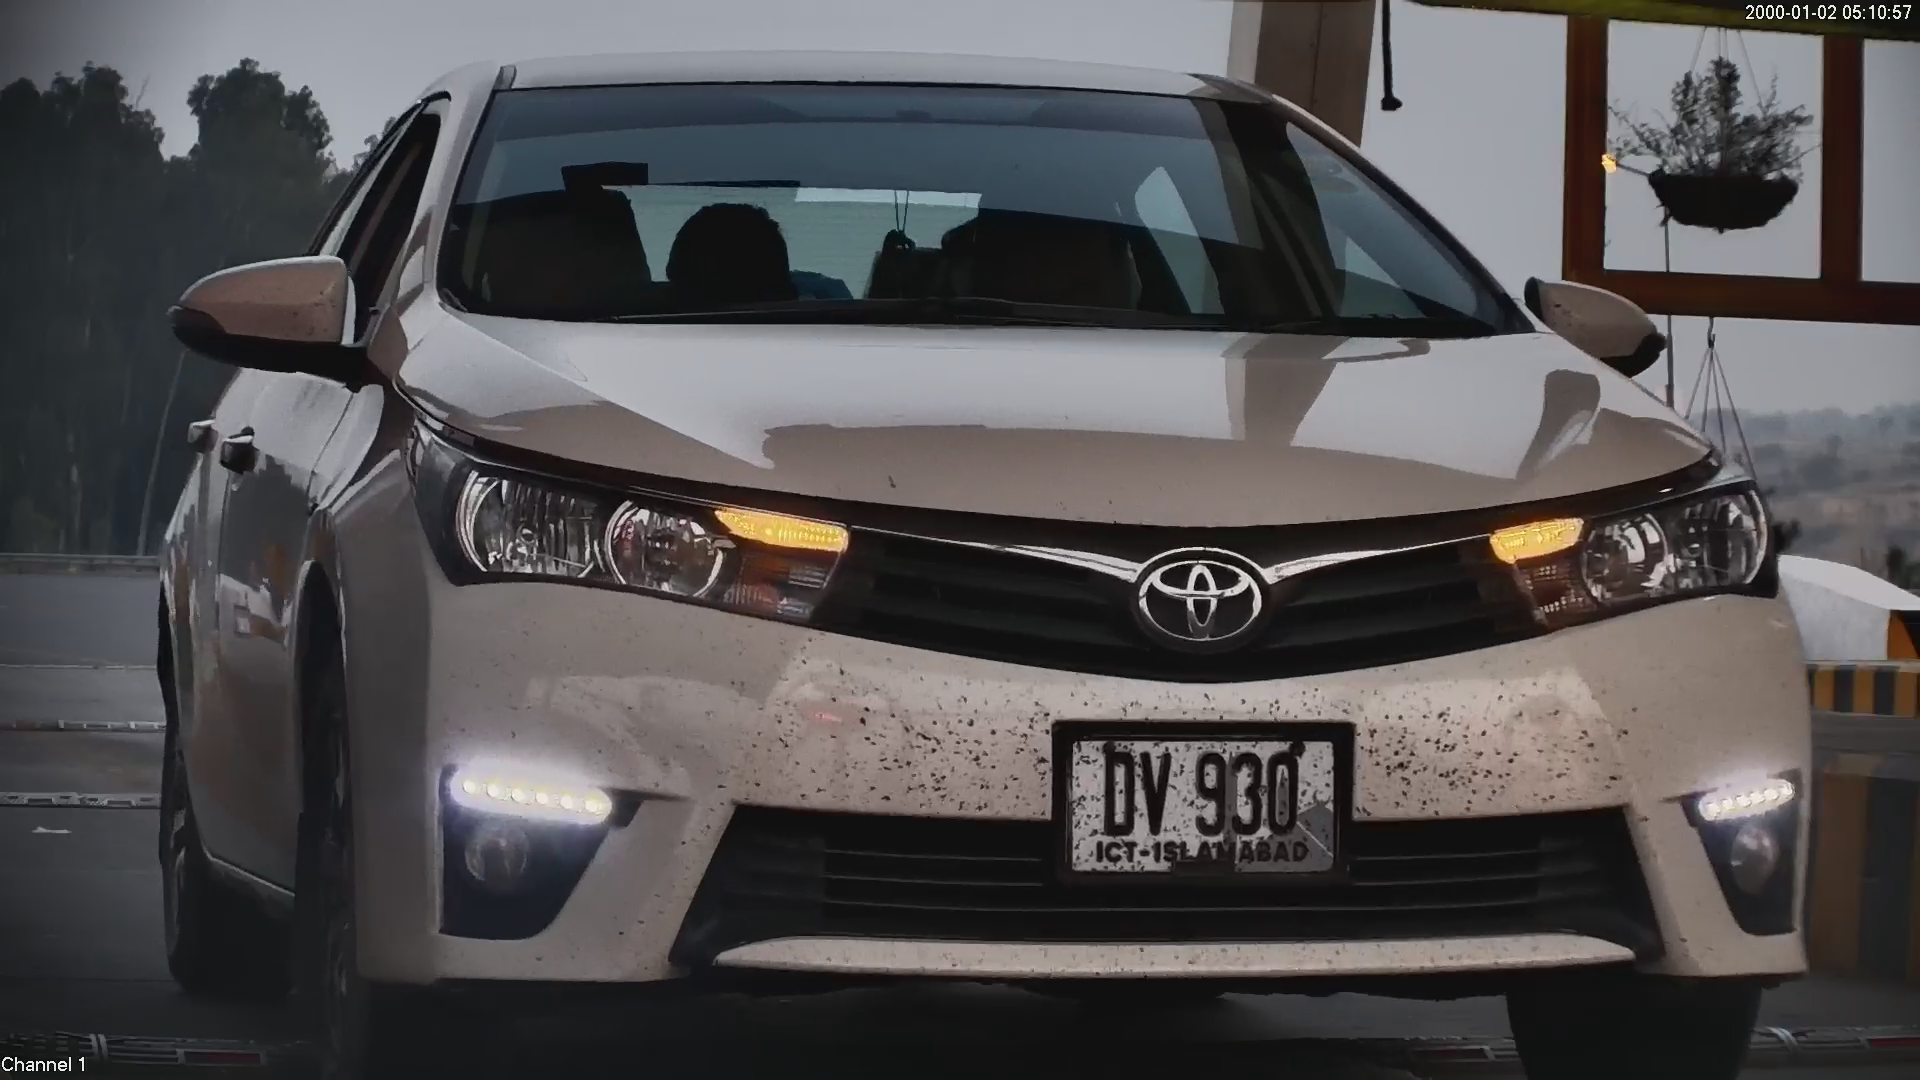Number_Plate: (1042, 709, 1366, 893)
